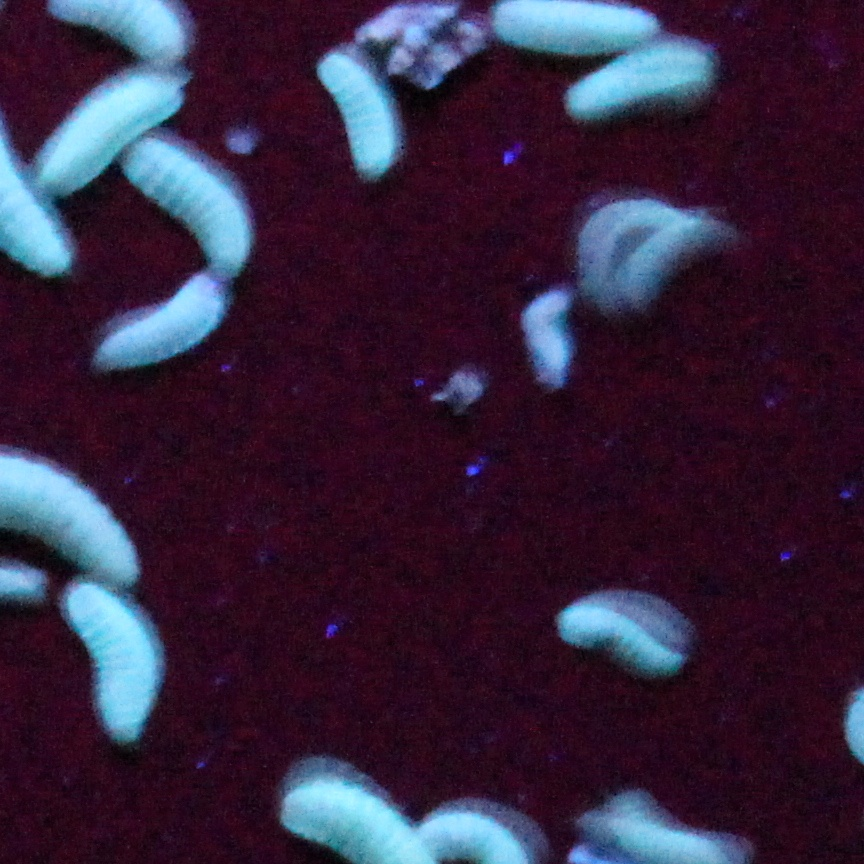larve: (125, 138, 249, 272), (39, 80, 181, 189), (67, 587, 156, 735), (100, 275, 223, 360), (567, 45, 709, 112), (318, 54, 395, 176), (579, 199, 684, 285), (558, 606, 682, 670), (627, 218, 722, 282)
